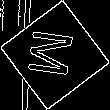M_E: (27, 28, 83, 82)
